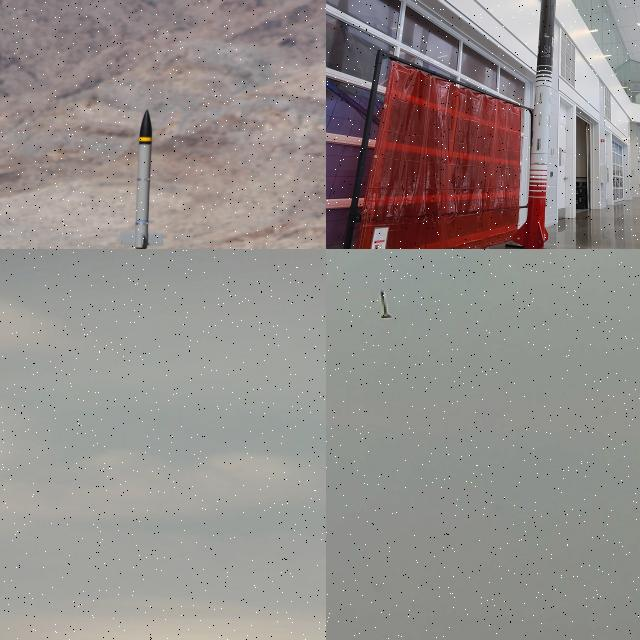Rocket: (513, 0, 556, 249), (119, 108, 164, 249), (381, 290, 391, 319)
